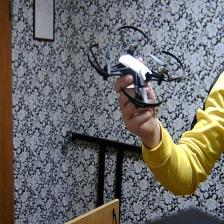drone: (83, 18, 186, 115)
